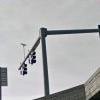Traffic light: (10, 34, 39, 80)
